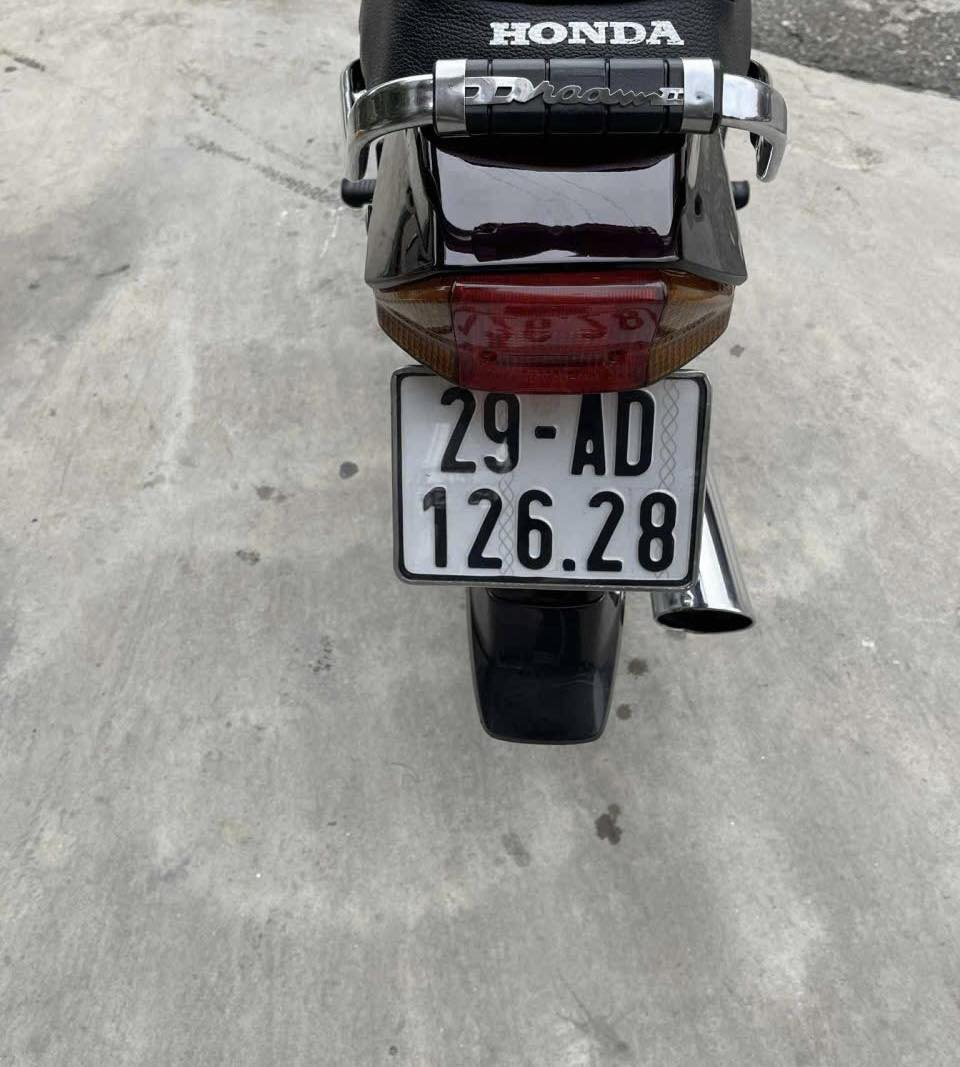bien_so: (380, 360, 727, 601)
